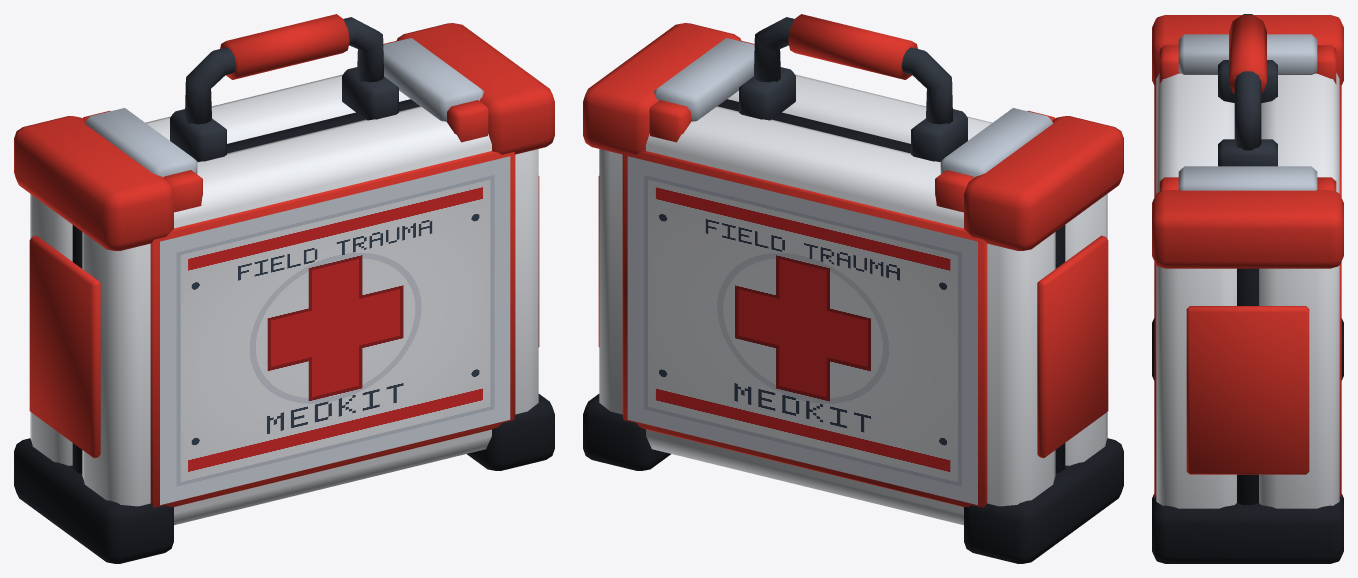
File: item_medkit.glb
3 renders of one model, left to right at view 1: azimuth 30°, elevation 25°; view 2: azimuth 150°, elevation 25°; view 3: azimuth 270°, elevation 25°, orthographic. The views are drawn at different scales.
Parts seen in each view (by area): view 1: FrontCrossPanel, FrontClamshell, CornerBumper_L_1, SideTrimPlate_0, PanelBezel_0, CornerBumper_L_0, BackClamshell, CornerBumper_R_1, HandleGripSleeve, TopLatchBody_1, HandleBar, CornerBumper_R_0 (+6 smaller); view 2: BackCrossPanel, BackClamshell, CornerBumper_L_1, SideTrimPlate_0, PanelBezel_1, CornerBumper_L_0, FrontClamshell, CornerBumper_R_1, HandleGripSleeve, TopLatchBody_1, HandleBar, CornerBumper_R_0 (+6 smaller); view 3: SideTrimPlate_1, BackClamshell, FrontClamshell, CornerBumper_R_1, CornerBumper_R_0, CornerBumper_L_1, TopLatchBody_0, TopLatchBody_1, HandleGripSleeve, HandleBar, WaterproofGasket, HandleBracket_1 (+8 smaller).
Part boxes in pixels (left/top/right/bottom): FrontCrossPanel: left=160, top=156, right=510, bottom=504; FrontClamshell: left=82, top=106, right=538, bottom=525; CornerBumper_L_1: left=14, top=116, right=173, bottom=250; SideTrimPlate_0: left=29, top=235, right=100, bottom=458; PanelBezel_0: left=150, top=151, right=515, bottom=507; CornerBumper_L_0: left=14, top=438, right=173, bottom=563; BackClamshell: left=30, top=74, right=410, bottom=465; CornerBumper_R_1: left=396, top=23, right=554, bottom=154; HandleGripSleeve: left=220, top=14, right=349, bottom=79; TopLatchBody_1: left=383, top=38, right=483, bottom=121; HandleBar: left=185, top=17, right=383, bottom=124; CornerBumper_R_0: left=467, top=394, right=554, bottom=470; BackCrossPanel: left=627, top=156, right=977, bottom=504; BackClamshell: left=599, top=106, right=1055, bottom=525; CornerBumper_L_1: left=964, top=116, right=1123, bottom=250; SideTrimPlate_0: left=1037, top=235, right=1108, bottom=458; PanelBezel_1: left=622, top=151, right=987, bottom=507; CornerBumper_L_0: left=964, top=438, right=1123, bottom=563; FrontClamshell: left=727, top=74, right=1107, bottom=465; CornerBumper_R_1: left=583, top=23, right=741, bottom=154; HandleGripSleeve: left=788, top=14, right=917, bottom=79; TopLatchBody_1: left=654, top=38, right=754, bottom=121; HandleBar: left=754, top=17, right=952, bottom=124; CornerBumper_R_0: left=583, top=394, right=670, bottom=470; SideTrimPlate_1: left=1186, top=306, right=1309, bottom=474; BackClamshell: left=1259, top=73, right=1339, bottom=508; FrontClamshell: left=1156, top=73, right=1236, bottom=508; CornerBumper_R_1: left=1152, top=190, right=1343, bottom=268; CornerBumper_R_0: left=1152, top=494, right=1343, bottom=563; CornerBumper_L_1: left=1152, top=15, right=1343, bottom=84; TopLatchBody_0: left=1178, top=34, right=1317, bottom=74; TopLatchBody_1: left=1178, top=166, right=1317, bottom=190; HandleGripSleeve: left=1229, top=15, right=1266, bottom=93; HandleBar: left=1234, top=14, right=1261, bottom=150; WaterproofGasket: left=1237, top=268, right=1258, bottom=504; HandleBracket_1: left=1218, top=139, right=1277, bottom=166.
Size of the model in its own units: 0.44 by 0.4242 by 0.172.
Materials: 6 (1 with a texture image).
